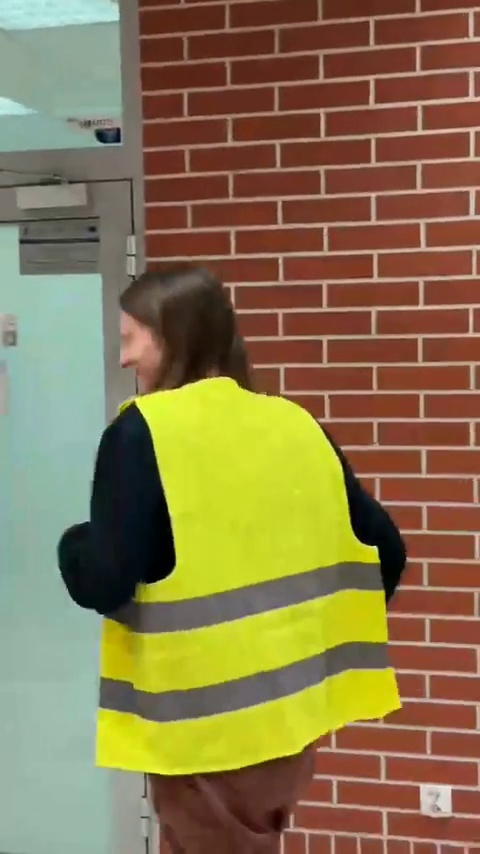vest: (65, 277, 406, 852)
